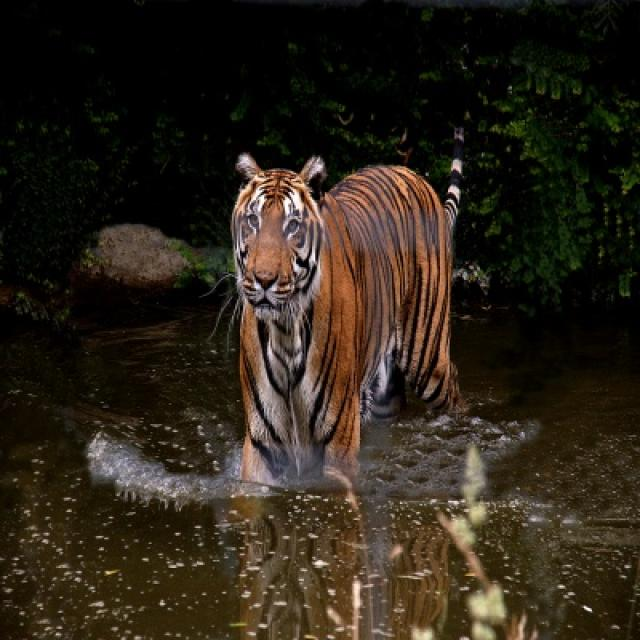Tiger: (230, 139, 461, 478)
